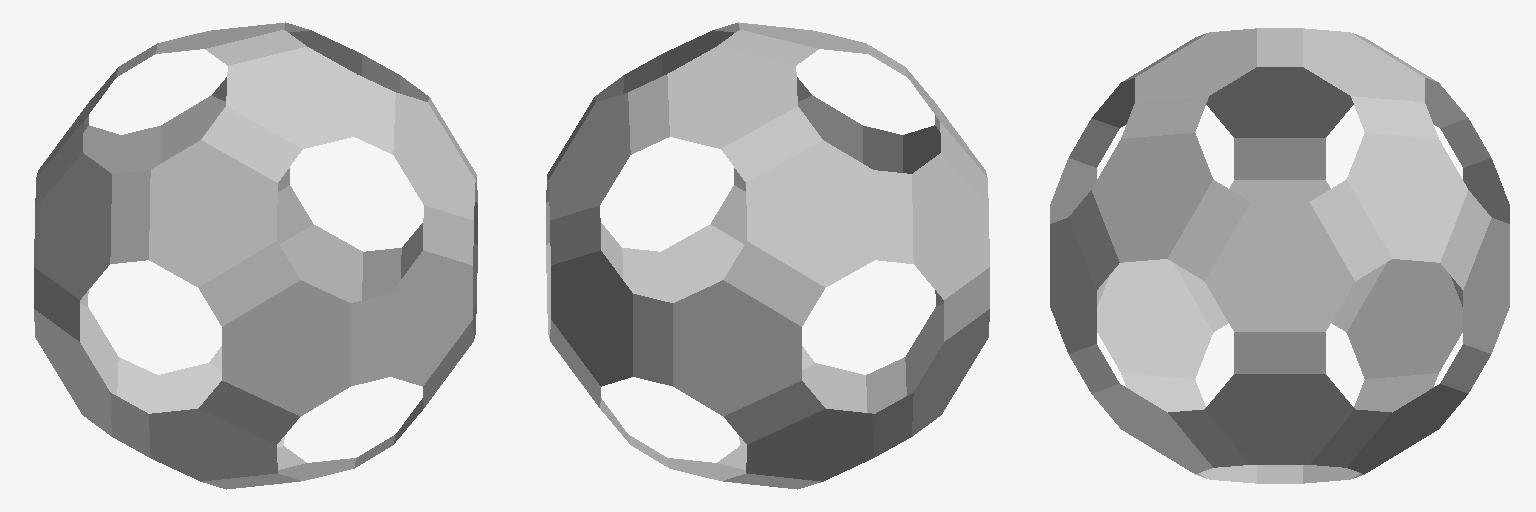
File: doda.obj
3 views of the same model, side by side, from view 1: azimuth 30°, elevation 25°; view 2: azimuth 150°, elevation 25°; view 3: azimuth 270°, elevation 25° (orthographic).
Parts seen in each view (by area): view 1: doda, doda.001; view 2: doda, doda.001; view 3: doda, doda.001.
Part boxes in pixels (x1,y1,x2,y2): doda: (34,22,477,488); doda.001: (34,23,477,489); doda: (546,23,989,489); doda.001: (546,22,989,488); doda: (1050,28,1509,483); doda.001: (1050,28,1509,483).
Size of the model in its own units: 1.95 by 1.95 by 1.95.